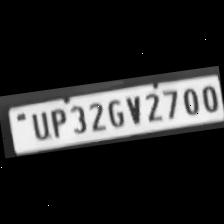0: (177, 84, 201, 116), (198, 82, 220, 113)
2: (84, 98, 107, 132), (140, 90, 163, 124)
3: (65, 101, 88, 135)
7: (158, 88, 181, 120)
G: (104, 96, 126, 129)
P: (46, 105, 68, 139)
U: (27, 108, 51, 140)
V: (122, 92, 144, 126)
